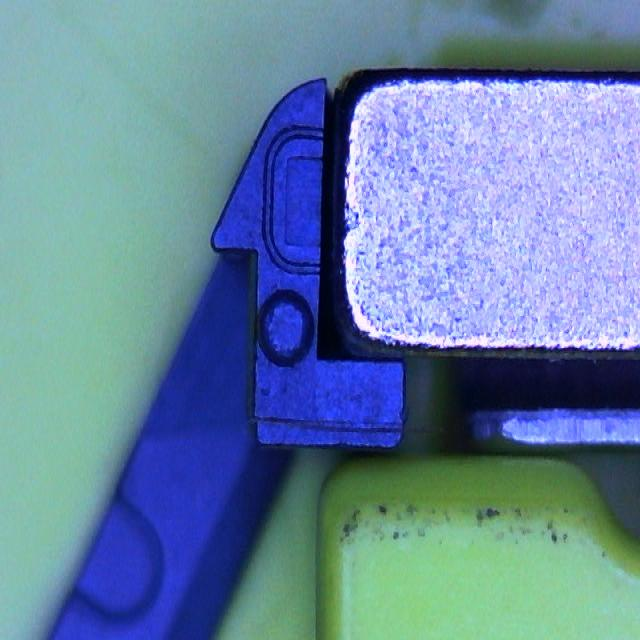noResin: (262, 121, 328, 278)
